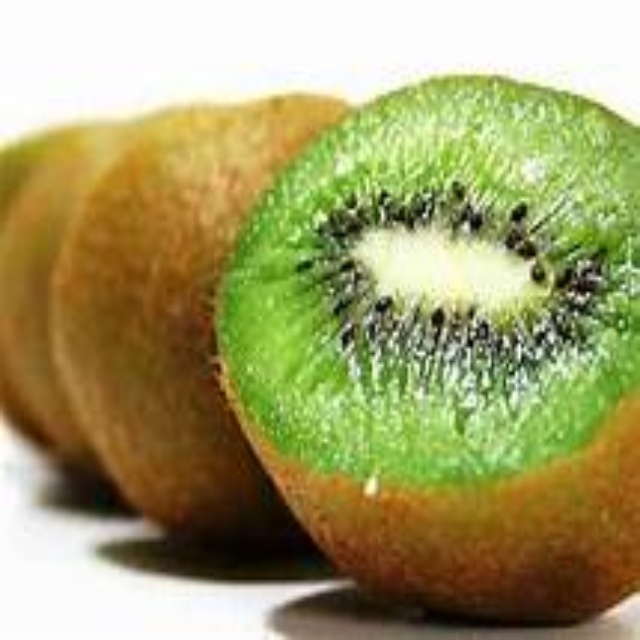kiwi: (226, 77, 639, 626), (58, 102, 353, 555)
